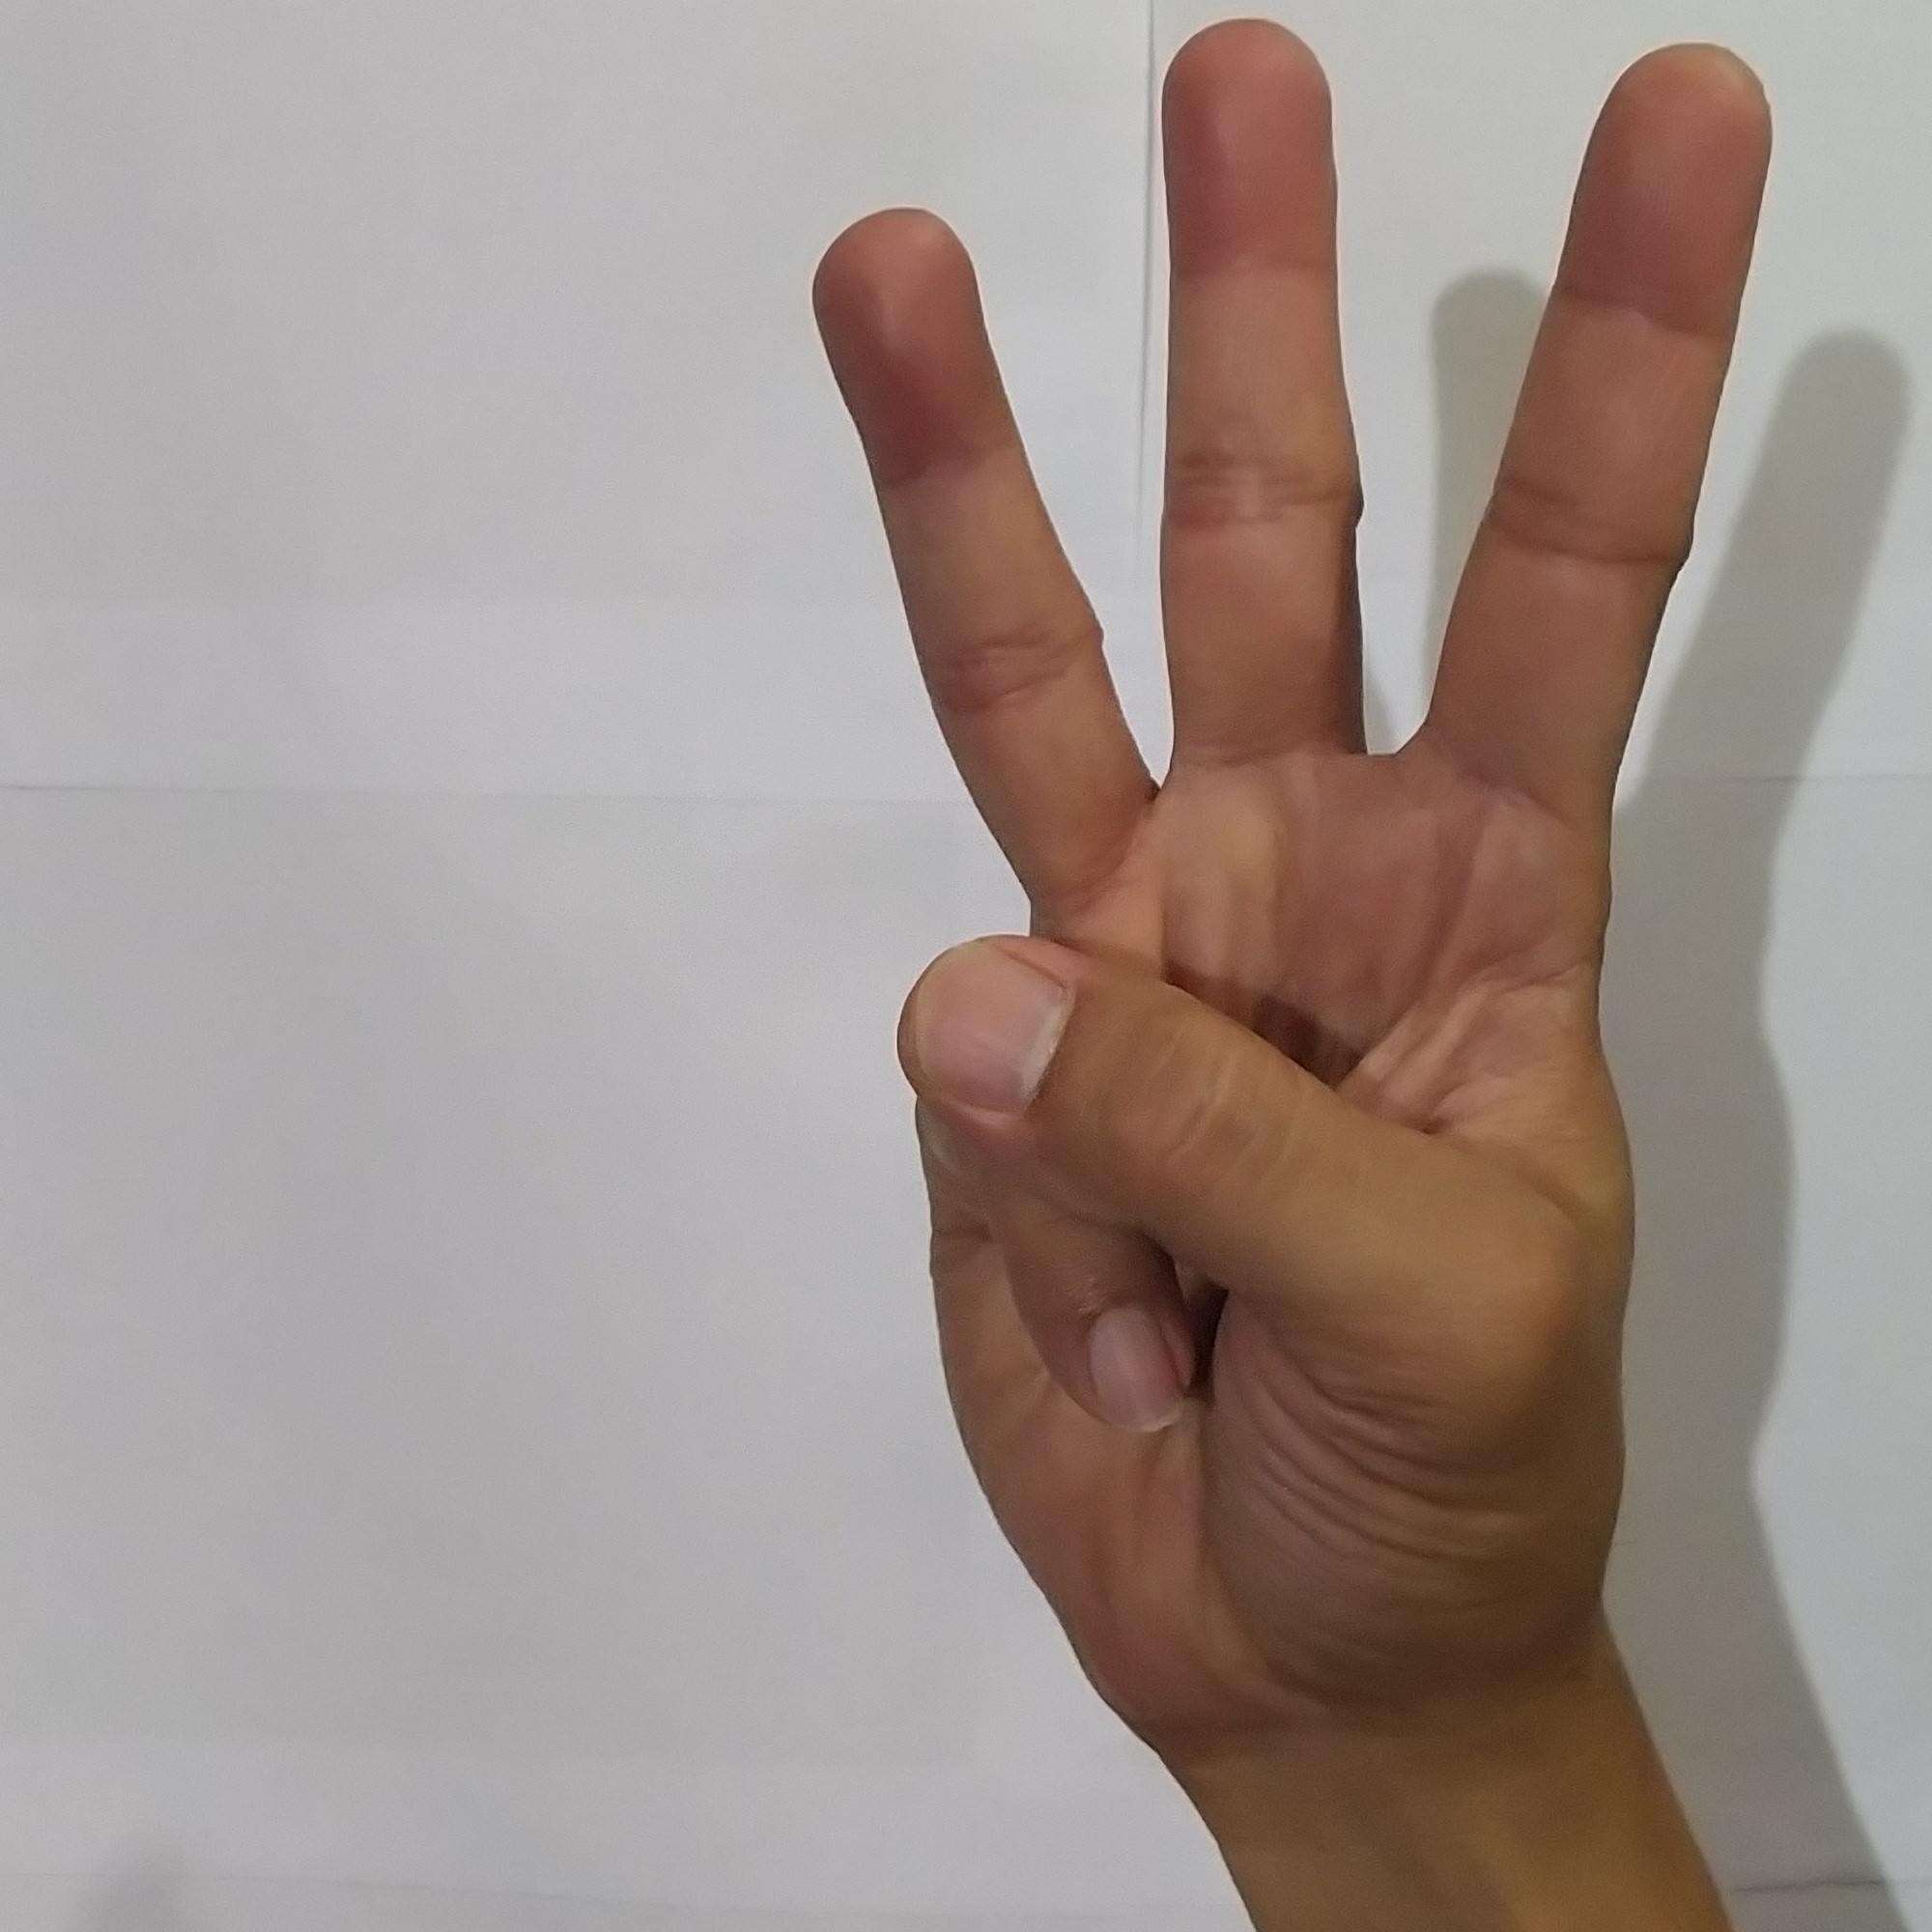W: (780, 2, 1808, 1723)
